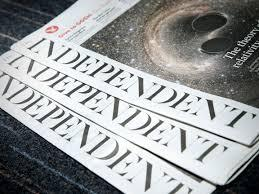Printing industry: (2, 2, 259, 194)
